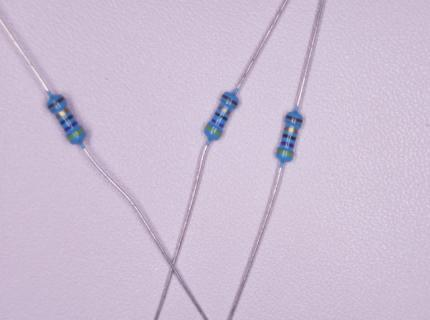Gold band: (56, 107, 70, 119), (218, 105, 231, 116), (284, 127, 298, 134)
Violet band: (64, 121, 78, 132), (211, 118, 225, 128), (280, 141, 295, 148)
Yellow band: (68, 128, 84, 140), (206, 125, 221, 136), (277, 149, 294, 157)
